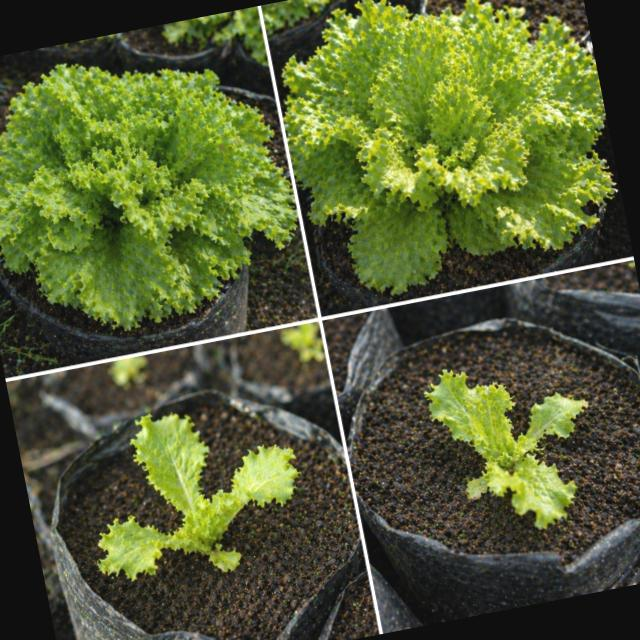inmadura: (99, 414, 299, 580)
lista_para_cosechar: (284, 0, 614, 294), (0, 65, 297, 335)
verde: (425, 369, 589, 529)
